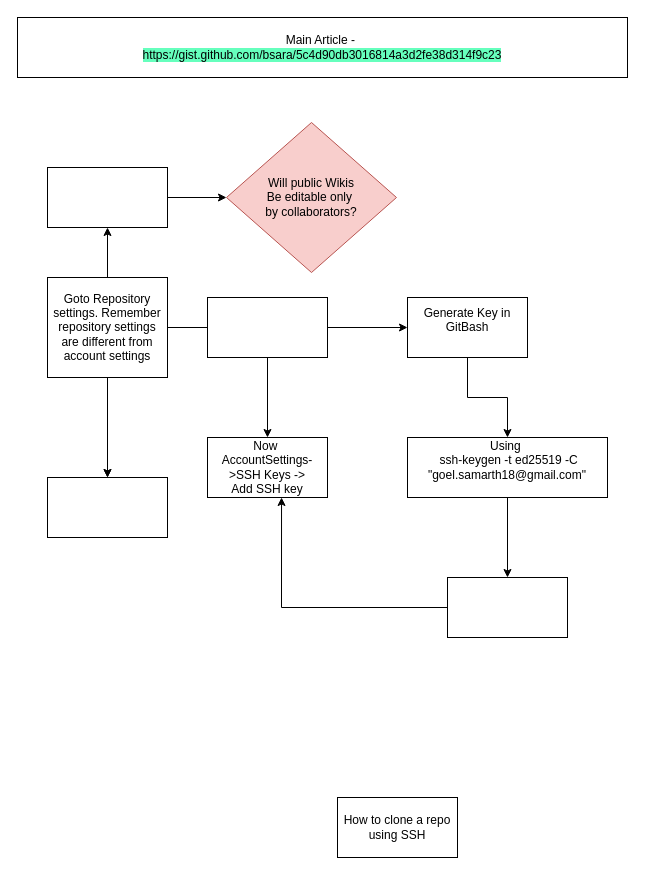
This 645x875 diagram has some shape labels left out. Here are the shapes that lost their labels. From the top down, the box of each, then its label:
(46, 166, 168, 228): Wikis -> Allow documentation for repository
(206, 296, 328, 358): Adding SSH Fingerprint
(46, 476, 168, 538): Open Security
(446, 576, 568, 638): Find the .pub file and then copy the contents (pub stands for public key)
